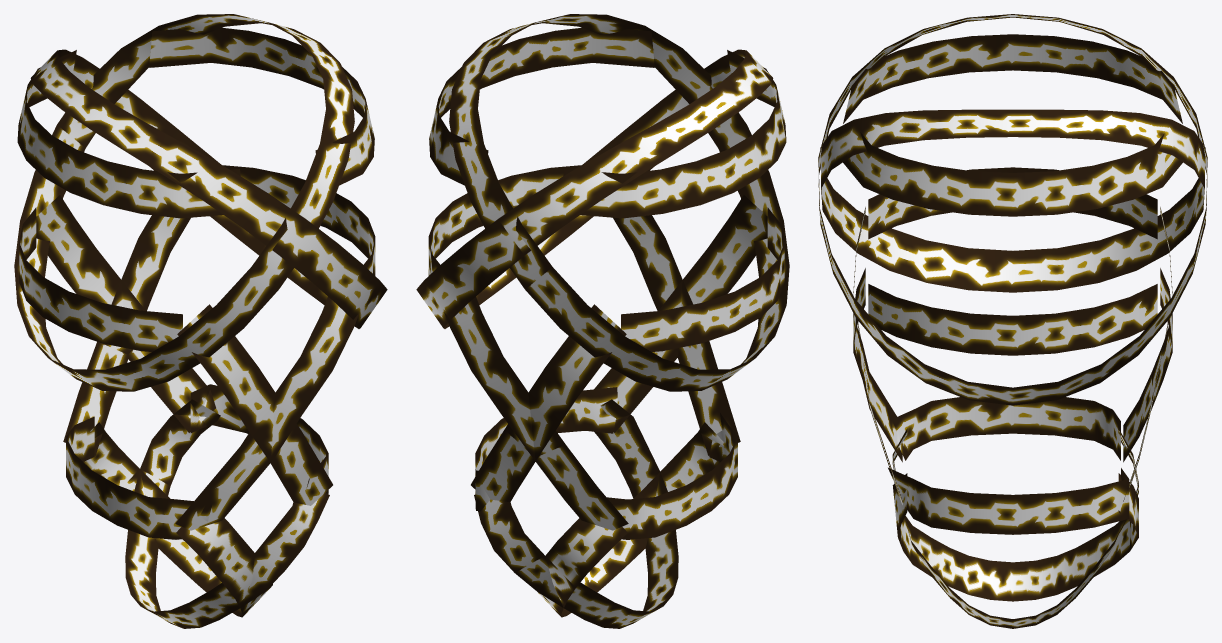
File: skill_eff_144_hit_guijiabang.FBX
The picture shows the model from 3 angles, left to right: view 1: azimuth 30°, elevation 25°; view 2: azimuth 150°, elevation 25°; view 3: azimuth 270°, elevation 25°; orthographic projection.
Visible parts, largest first — view 1: skill_eff_144_hit_guijiabang; view 2: skill_eff_144_hit_guijiabang; view 3: skill_eff_144_hit_guijiabang.
Part boxes in pixels (x1,y1,x2,y2): skill_eff_144_hit_guijiabang: [14, 14, 387, 628]; skill_eff_144_hit_guijiabang: [416, 14, 789, 628]; skill_eff_144_hit_guijiabang: [818, 14, 1207, 628].
Bounding box in the file's own units: 24.09 × 41.03 × 26.31.
